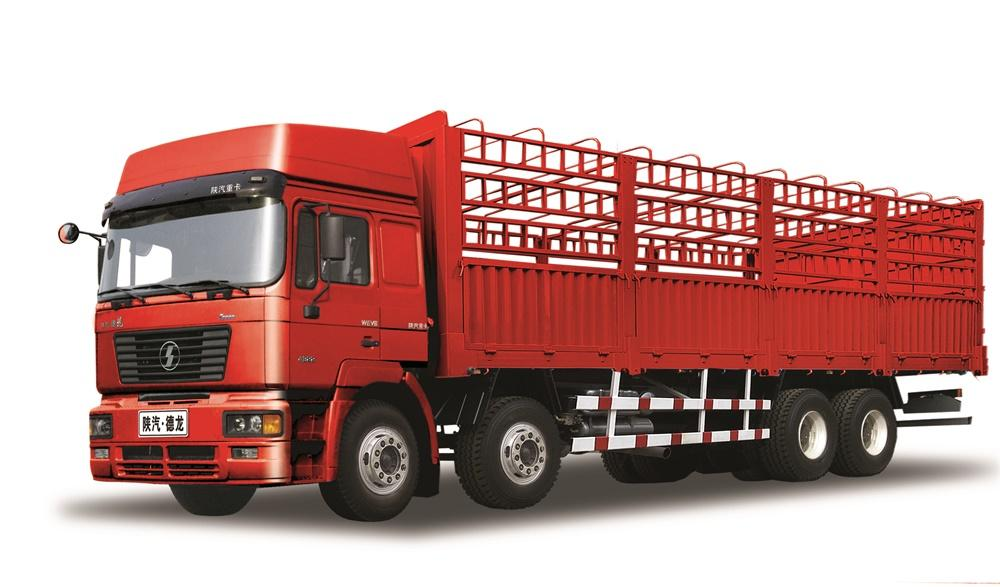truck: (57, 110, 989, 523)
